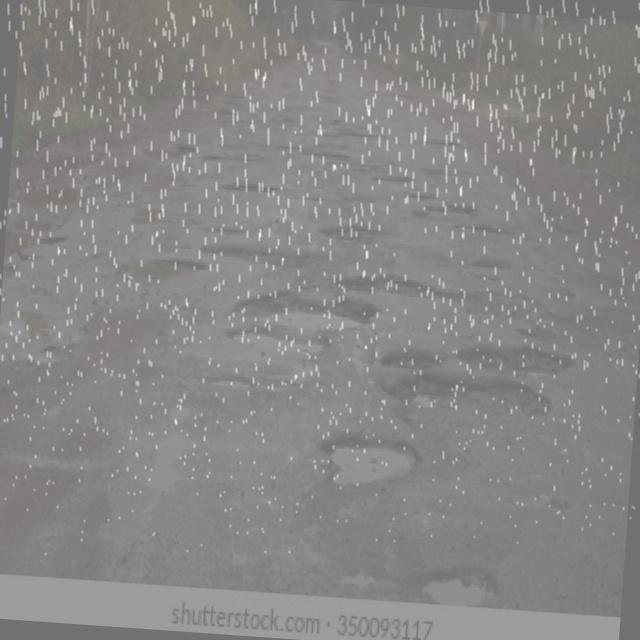Pothole: (374, 362, 557, 424), (298, 421, 432, 502), (242, 289, 372, 347), (454, 327, 568, 388), (334, 252, 464, 304), (395, 568, 511, 608), (126, 250, 213, 292), (278, 514, 331, 575), (145, 130, 200, 186), (211, 238, 273, 278), (325, 216, 379, 258), (282, 142, 352, 174), (418, 204, 478, 238), (465, 255, 511, 292), (221, 177, 265, 206), (376, 170, 417, 191)
